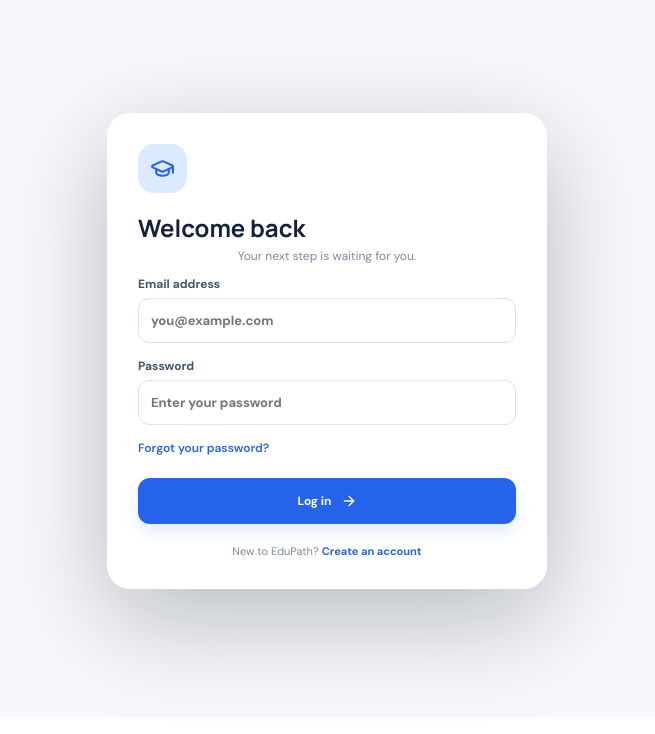
Test: login › shows a clear message for wrong credentials
In the field labelled "Email address": [327, 320] box [138,298,516,343], type "a@b.et"
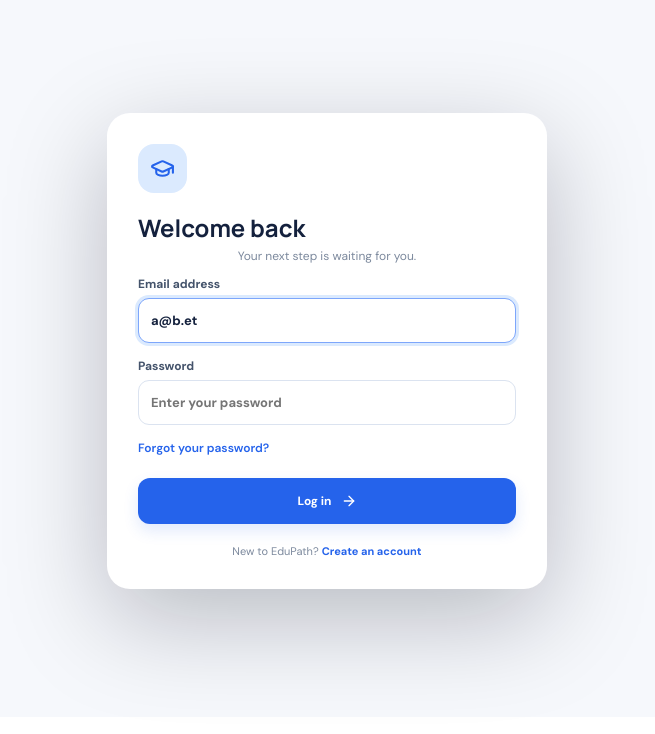
In the password field labelled "Password": [327, 402] box [138,380,516,425], type "wrongpass"
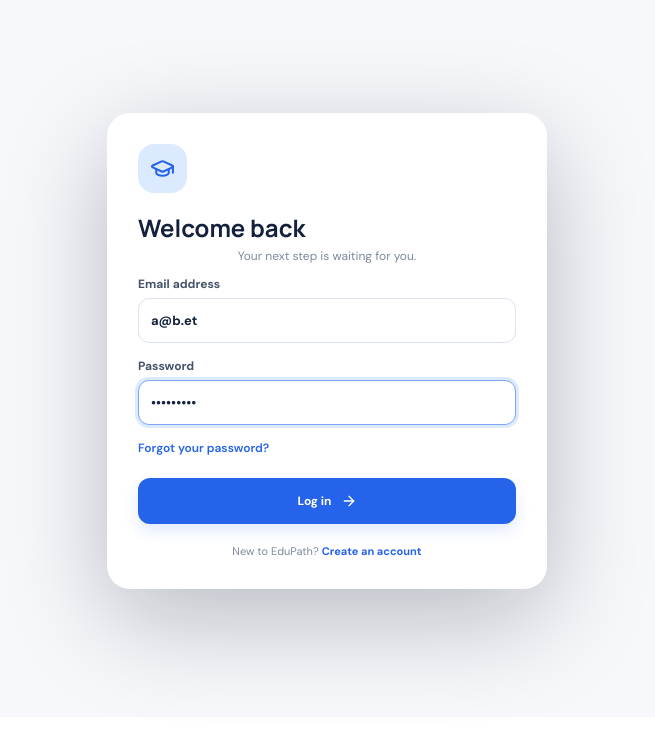
Click the button "Log in": [327, 501] box [138,478,516,524]
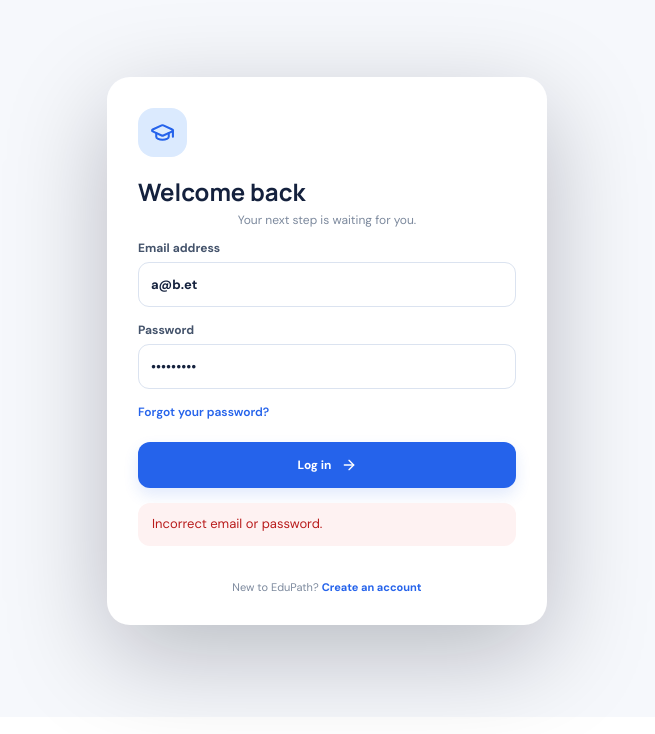
Result: the message reads "Incorrect email or password." at [152,515,322,532]
